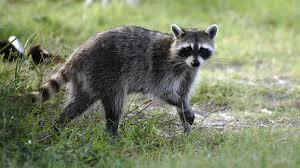raccoon: (8, 9, 237, 148)
